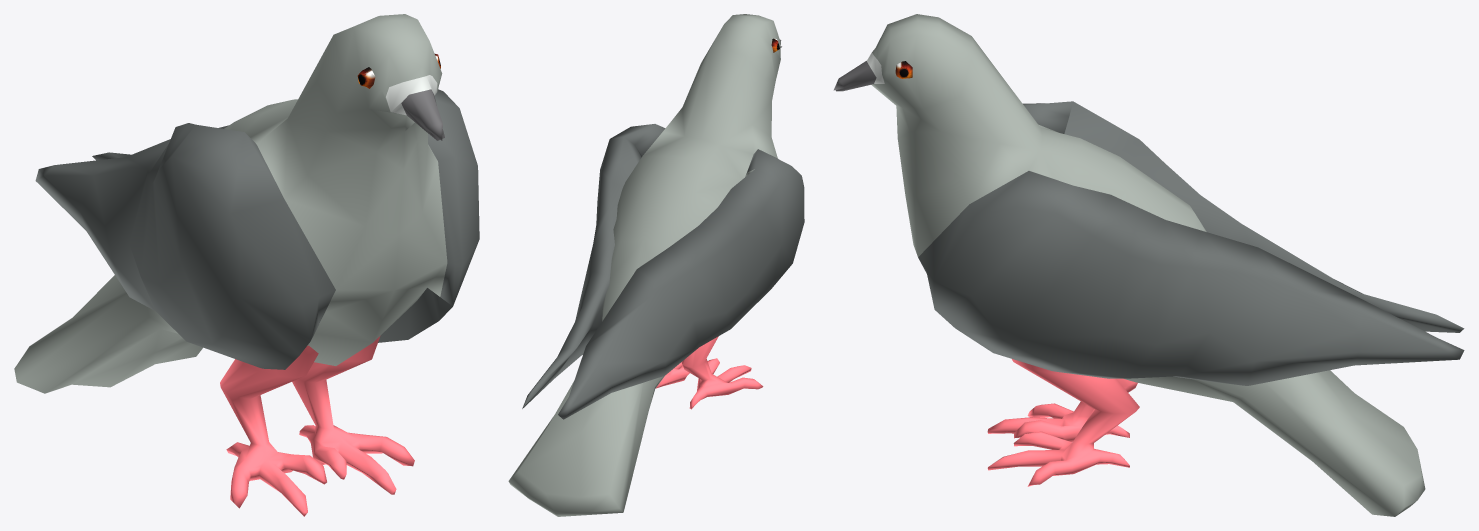
3 views of the same model, side by side, from view 1: azimuth 30°, elevation 25°; view 2: azimuth 150°, elevation 25°; view 3: azimuth 270°, elevation 25° (orthographic). The views are drawn at different scales.
Visible parts, largest first — view 1: Pigeon; view 2: Pigeon; view 3: Pigeon.
Part boxes in pixels (x1,y1,x2,y2): Pigeon: (14, 14, 479, 516); Pigeon: (508, 14, 804, 516); Pigeon: (833, 14, 1464, 516).
Size of what is drawn, in the model's own units: 0.2456 by 0.4965 by 0.5928.
1 material, 1 textured.
